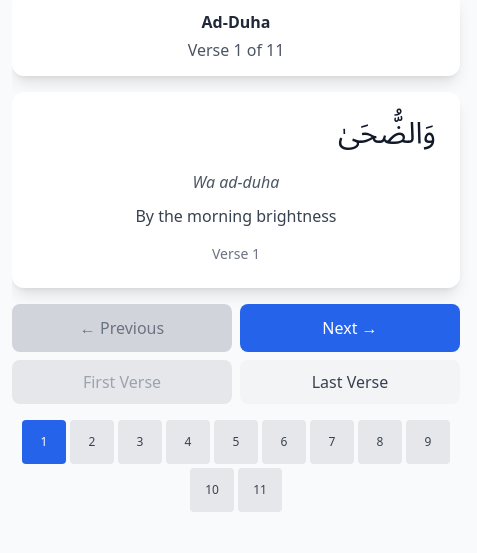
Test: Ad-Duha Reading Mode - Verse Number Indexing › should display verse 5 when clicking button labeled 5
Click the button "5".
click(236, 442)  # box [214,420,258,464]
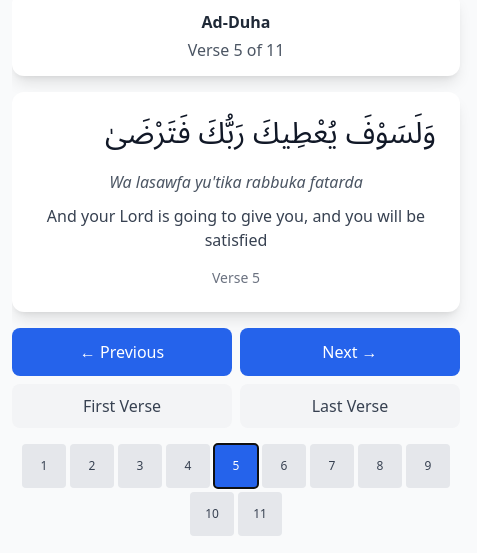
Now the text "Verse 5 of 11" is shown, box [188,39,284,61]
